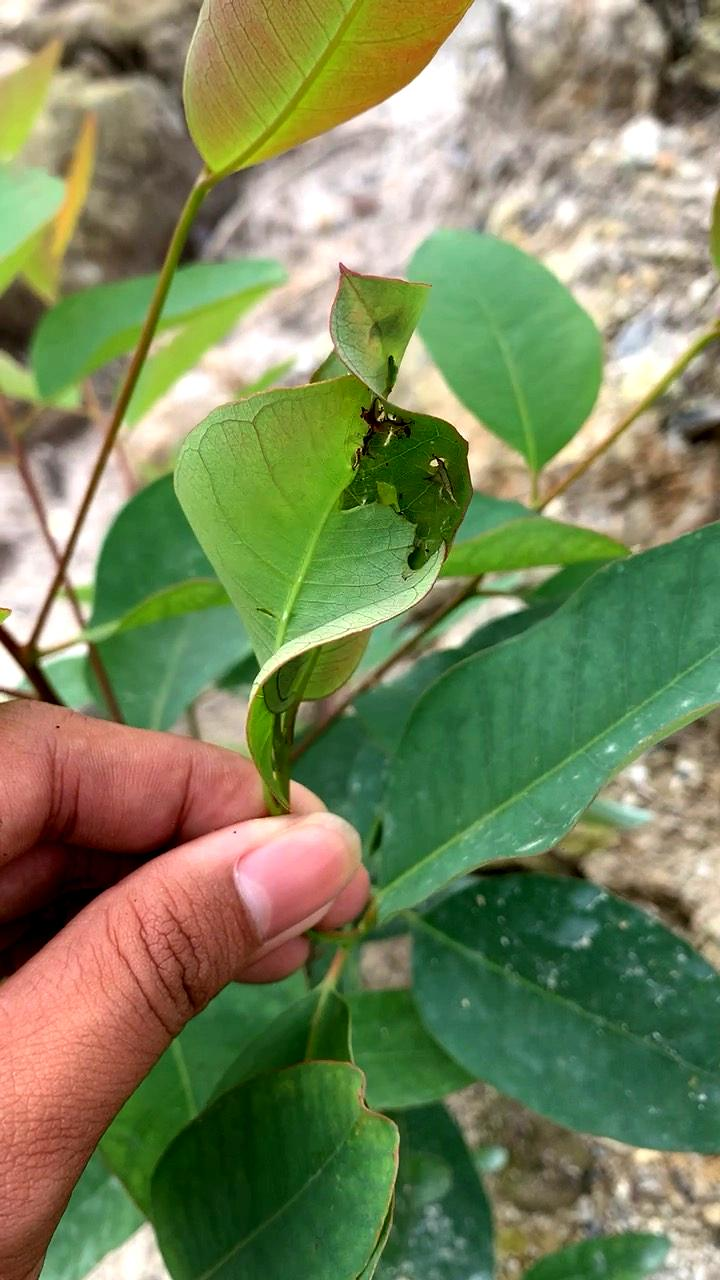Leaf Roller - Leaf: (155, 248, 476, 838)
